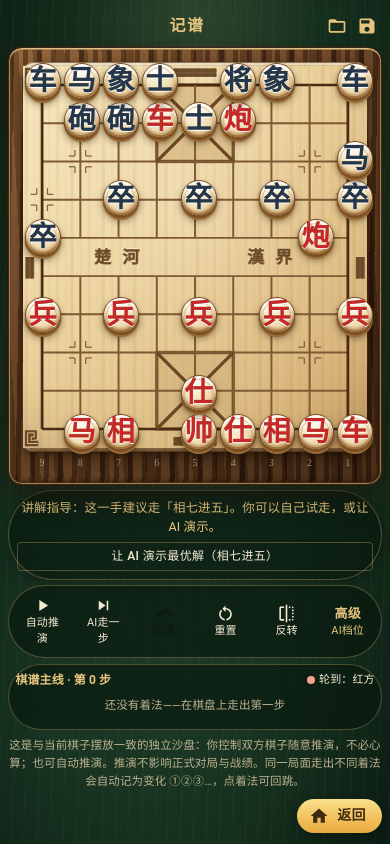
QA2 失误跳推演链路回归（中途局面） › 停在失误前局面、显示建议走法，show-best 播放传入正解
Click the button with test id "show-best".
click(195, 556)  # box [17,542,373,571]
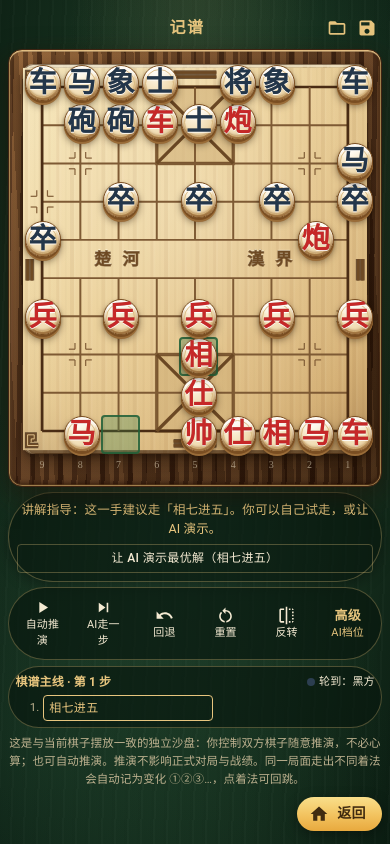
Expected: the button "相七进五" is shown, [43,695,213,721]
